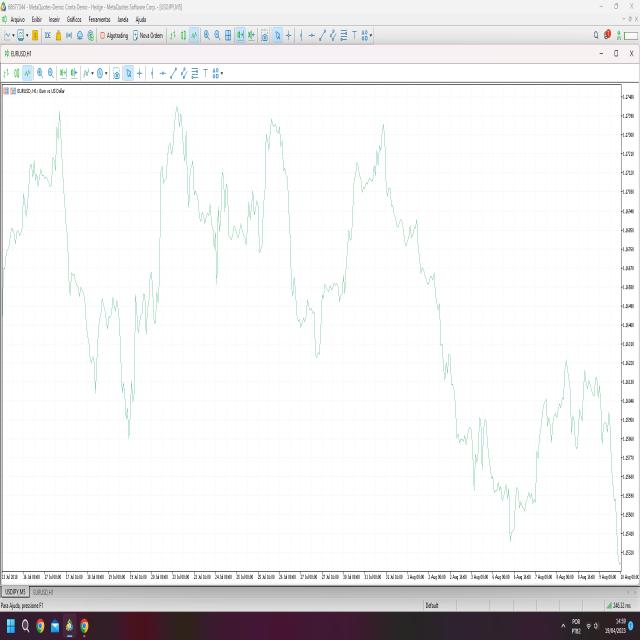oco_inv: (51, 193, 176, 449), (486, 439, 542, 544)
topo_duplo: (258, 105, 407, 369)
